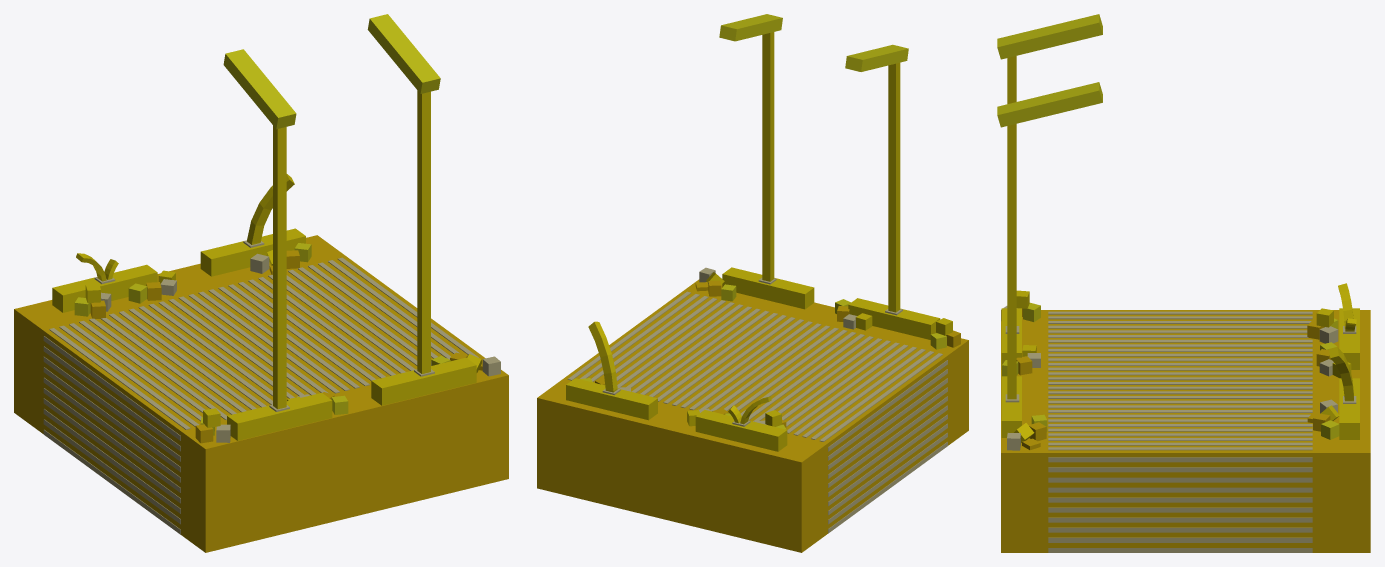
3 views of the same model, side by side, from view 1: azimuth 30°, elevation 25°; view 2: azimuth 150°, elevation 25°; view 3: azimuth 270°, elevation 25° (orthographic). The views are drawn at different scales.
Visible parts, largest first — view 1: plv1; view 2: plv1; view 3: plv1.
Part boxes in pixels (x1,y1,x2,y2): plv1: (14,14,508,552); plv1: (537,14,968,552); plv1: (997,14,1370,552).
Bounding box in the file's own units: 6.42 × 9 × 7.07.
